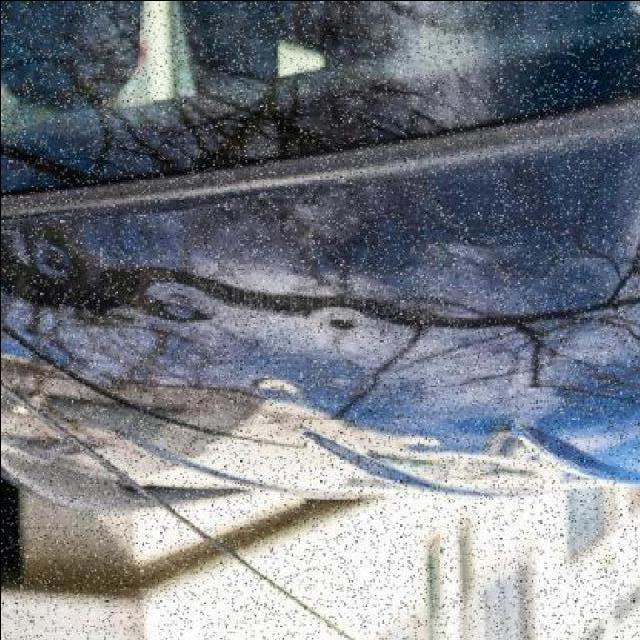roof-dent: (1, 94, 637, 487)
